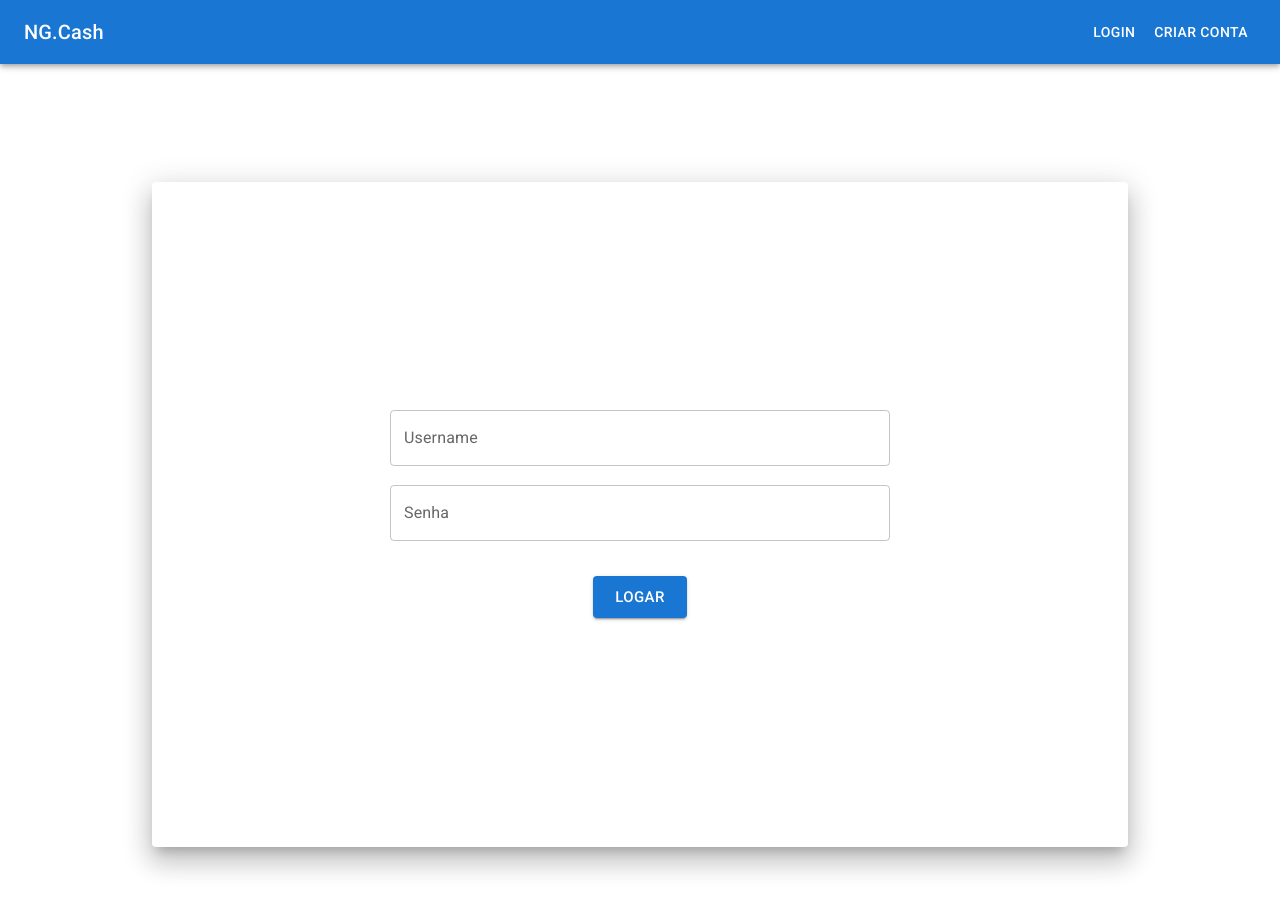
Test: Login page › Behavior › Failure › Should not allow login with invalid username or password
The width and height of the screenshot is (1280, 900).
Type "user" into the field labelled "Username" at (640, 438), box [390,410,890,466]
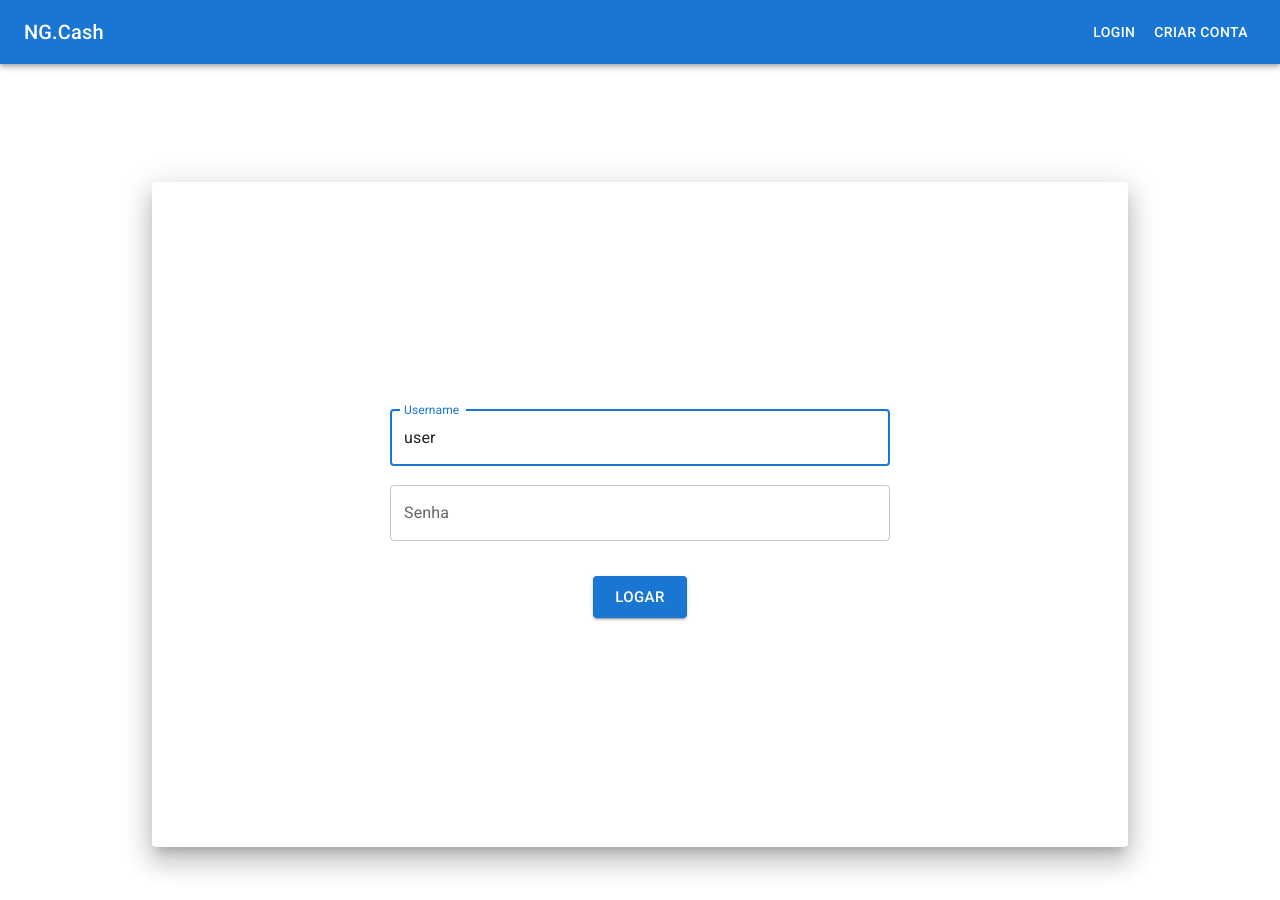
Type "User1234" into the password field labelled "Senha" at (640, 513), box [390,485,890,541]
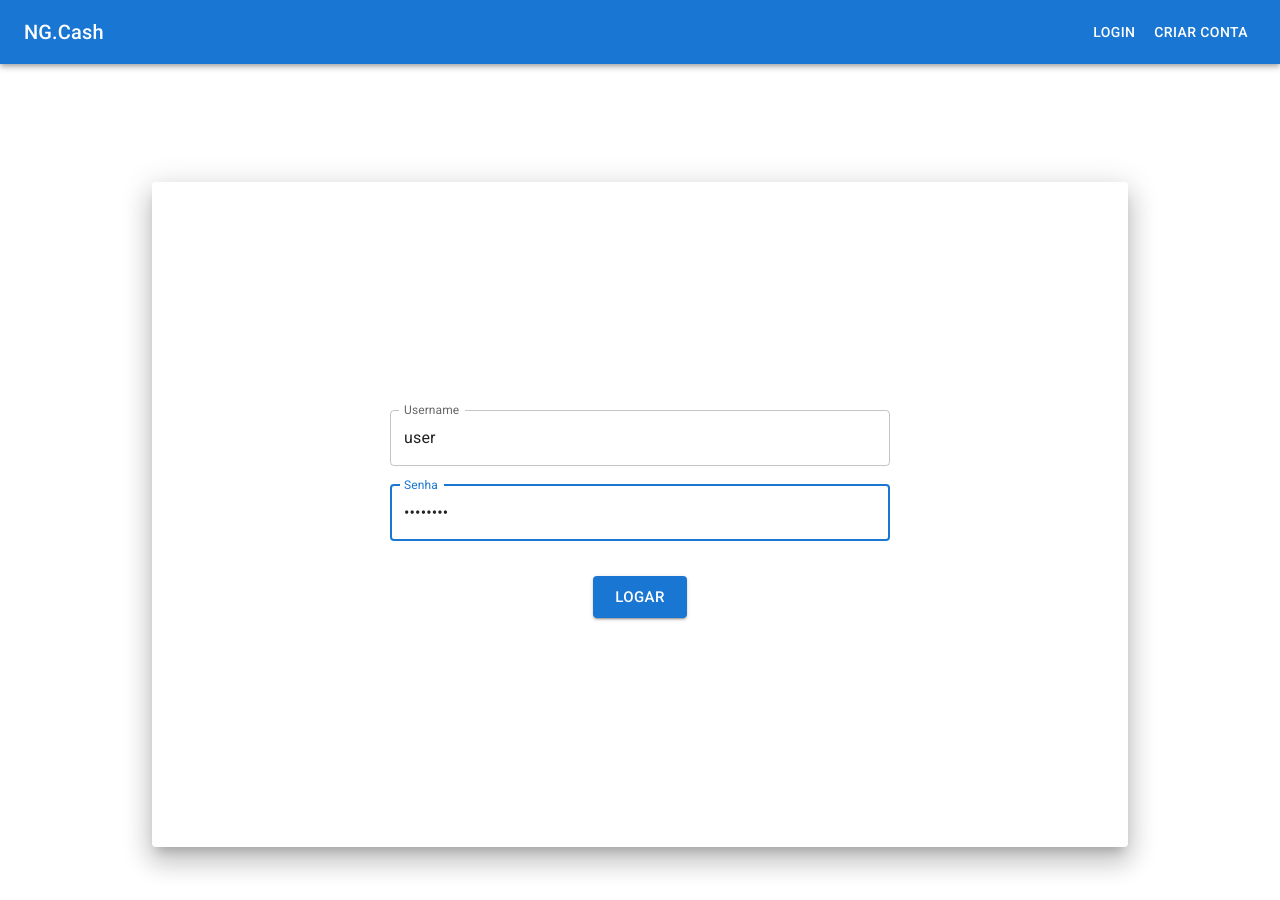
Click the button "Logar" at (640, 597), box [593,576,687,618]
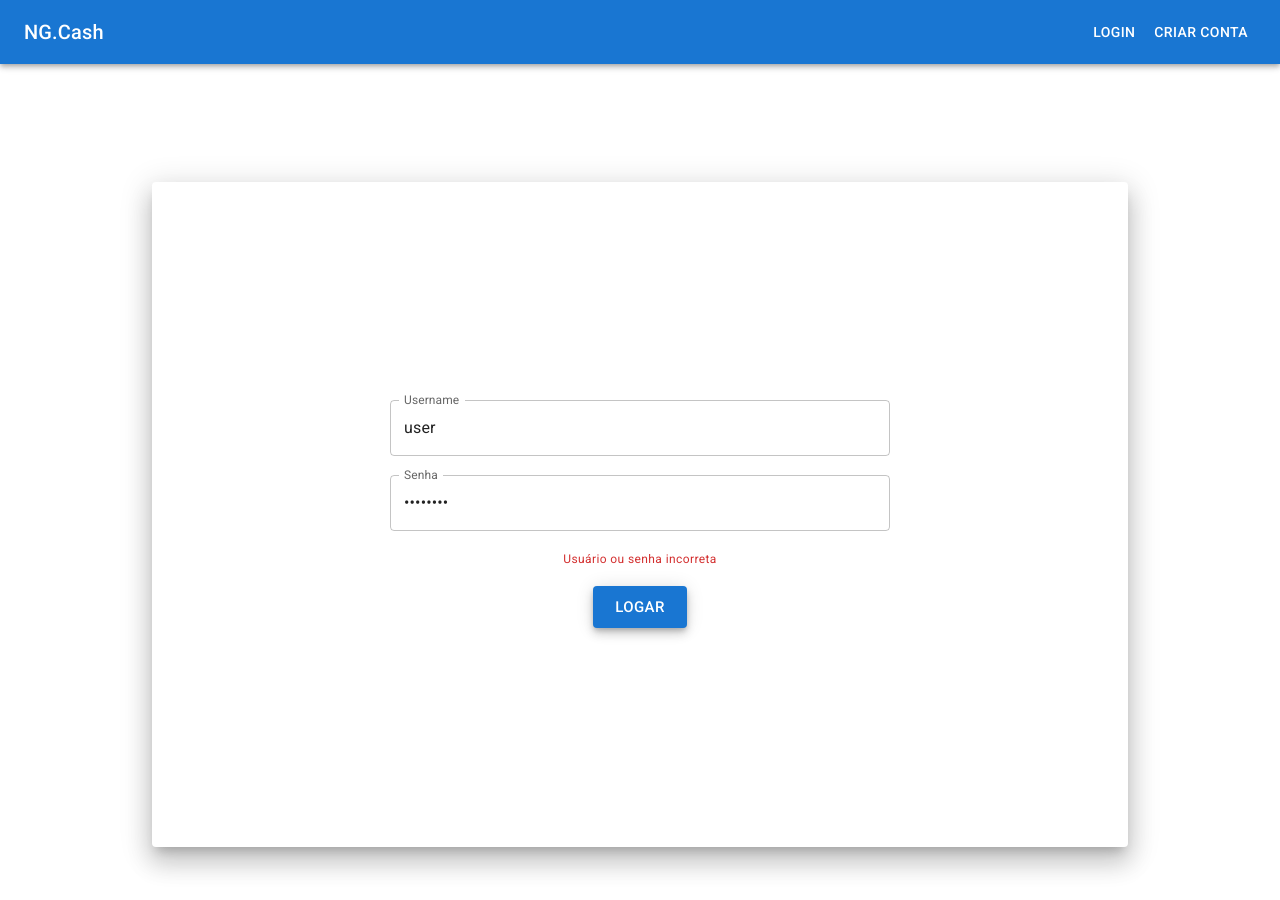
Check: the text "Usuário ou senha incorreta" is shown, box [563,550,717,570]
